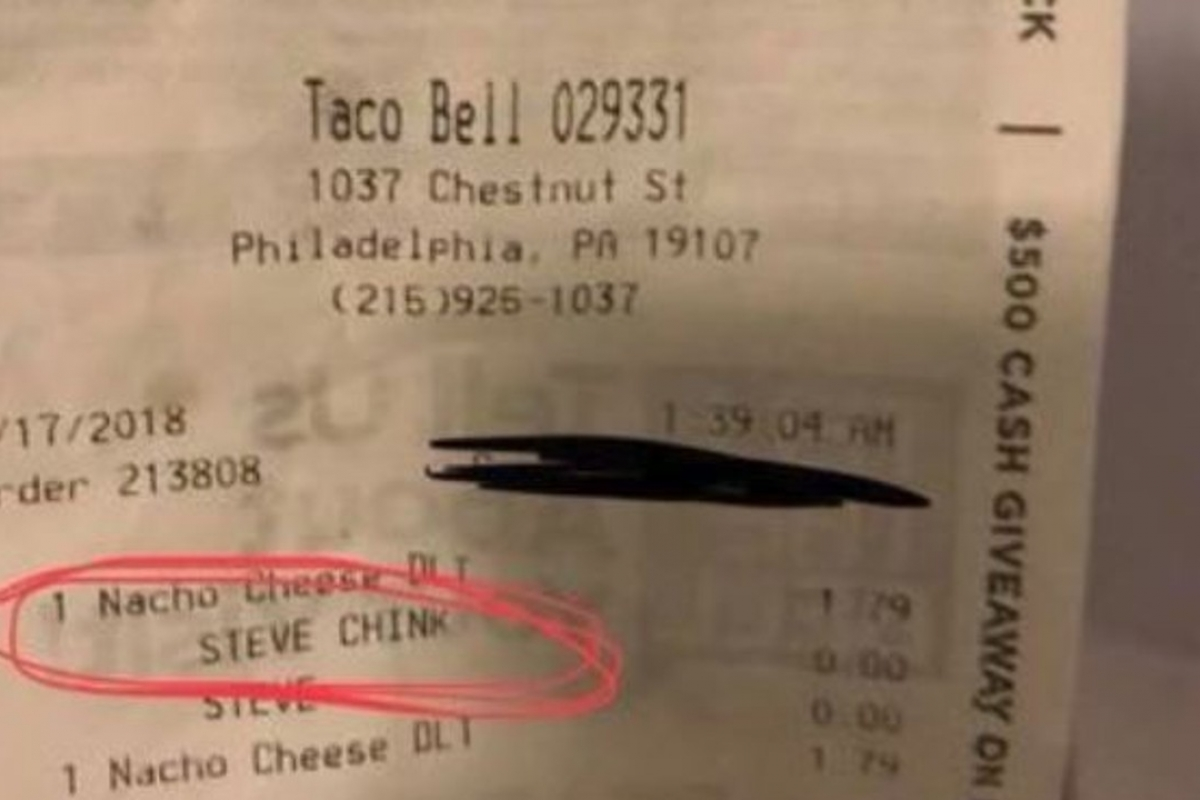Taco Bell: (296, 65, 533, 153)
